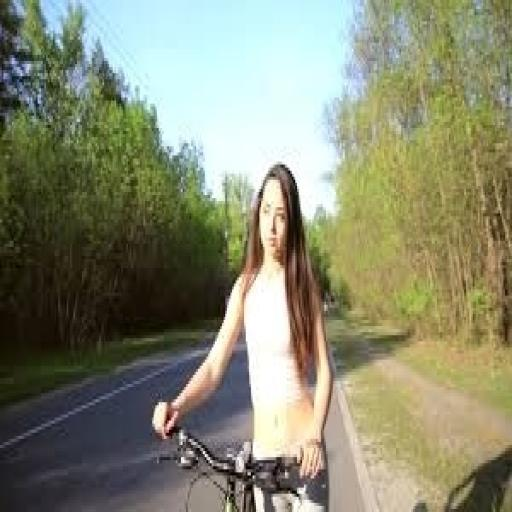cycling: (150, 158, 336, 509)
